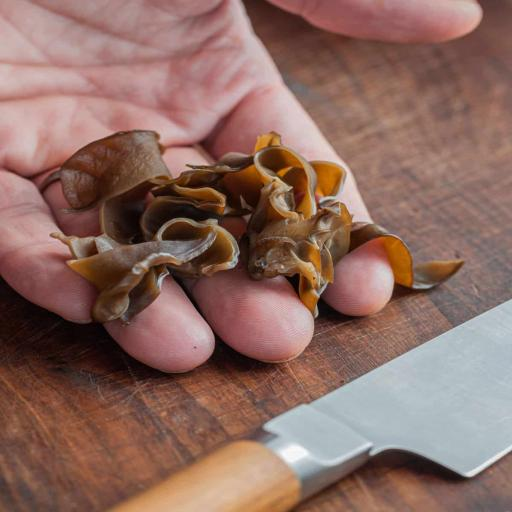Wood Ear Mushroom: (30, 116, 471, 320)
